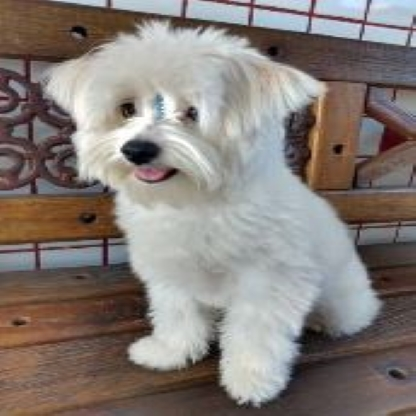maltese: (45, 18, 382, 403)
